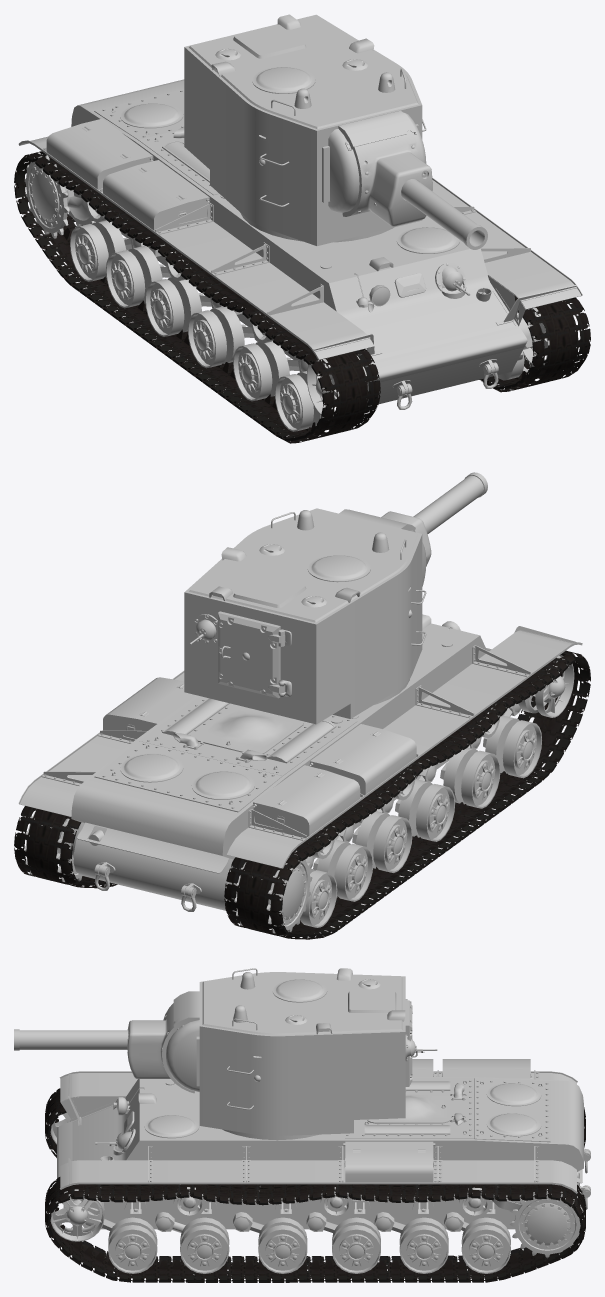
3 renders of one model, top to bottom at view 1: azimuth 30°, elevation 25°; view 2: azimuth 150°, elevation 25°; view 3: azimuth 270°, elevation 25°, orthographic. The views are drawn at different scales.
Visible parts, largest first — view 1: kv2, kv2track; view 2: kv2, kv2track; view 3: kv2, kv2track.
Boxes of the visible parts, x1=… form: kv2: x1=18, y1=14, x2=582, y2=431; kv2track: x1=14, y1=151, x2=590, y2=443; kv2: x1=18, y1=472, x2=582, y2=935; kv2track: x1=14, y1=650, x2=590, y2=939; kv2: x1=14, y1=968, x2=590, y2=1273; kv2track: x1=45, y1=1088, x2=585, y2=1282.
Size of the model in its own units: 131 by 130 by 285.
